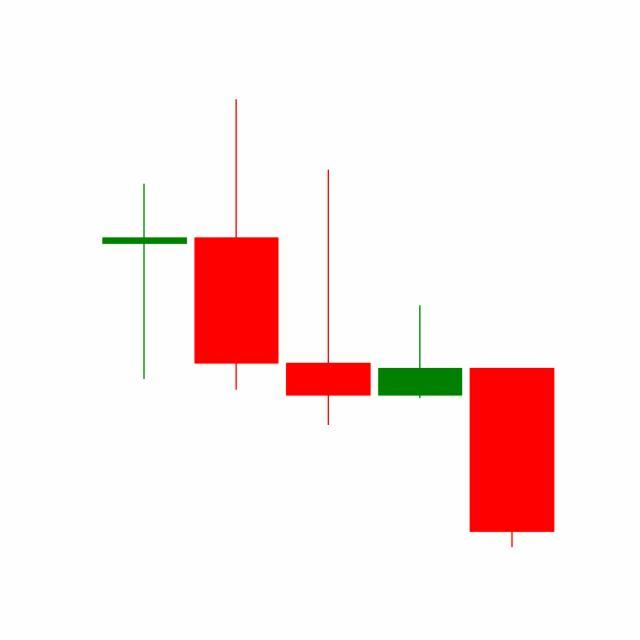Marubozu: (466, 366, 559, 551)
